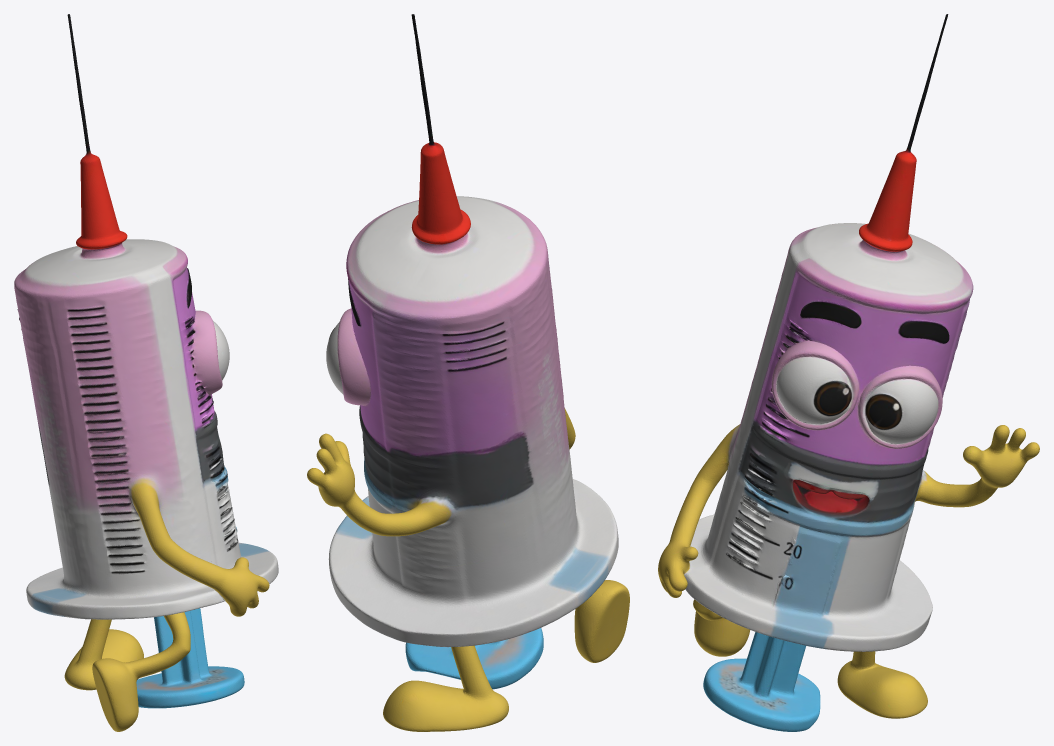
File: cartoon syringe 3d model.glb
3 views of the same model, side by side, from view 1: azimuth 30°, elevation 25°; view 2: azimuth 150°, elevation 25°; view 3: azimuth 270°, elevation 25° (orthographic). The views are drawn at different scales.
Parts seen in each view (by area): view 1: tripo_node_78968b0d-f3ff-4c03-975b-bd60a294d908; view 2: tripo_node_78968b0d-f3ff-4c03-975b-bd60a294d908; view 3: tripo_node_78968b0d-f3ff-4c03-975b-bd60a294d908.
Part boxes in pixels (left/top/right/bottom): tripo_node_78968b0d-f3ff-4c03-975b-bd60a294d908: left=14, top=14, right=278, bottom=731; tripo_node_78968b0d-f3ff-4c03-975b-bd60a294d908: left=307, top=14, right=629, bottom=731; tripo_node_78968b0d-f3ff-4c03-975b-bd60a294d908: left=658, top=14, right=1039, bottom=731.
Size of the model in its own units: 0.3617 by 1 by 0.5079.
Materials: 1 (1 with a texture image).
